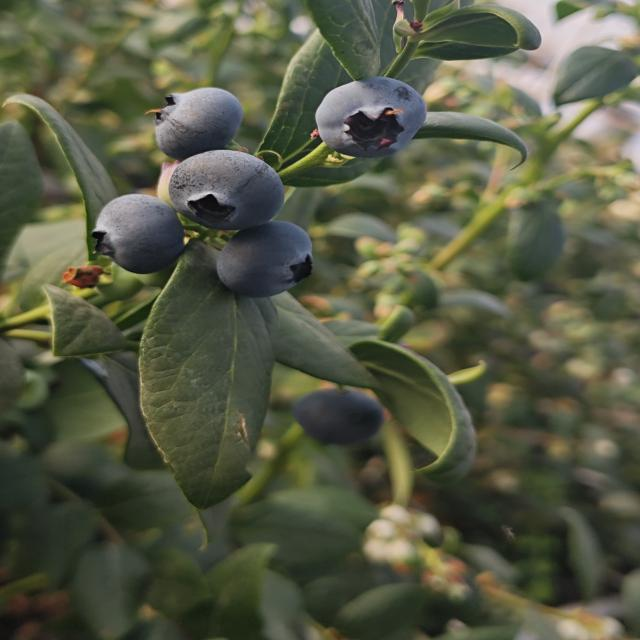ripe: (166, 148, 287, 232), (312, 74, 430, 160), (88, 192, 187, 276), (214, 220, 316, 300), (144, 86, 246, 162), (291, 386, 387, 449)
